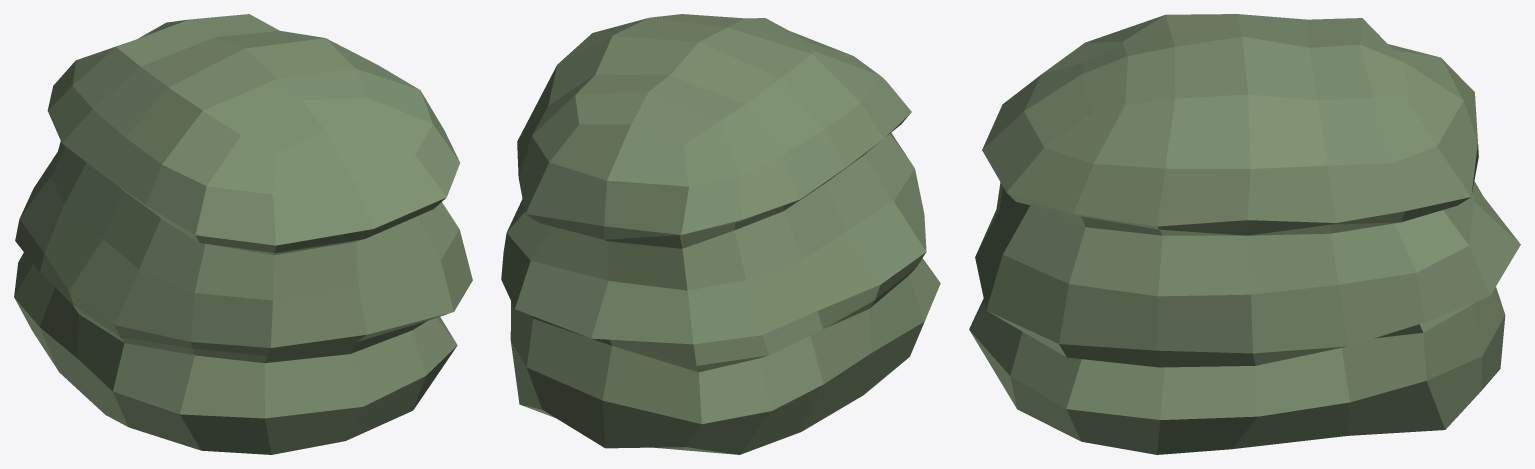
3 renders of one model, left to right at view 1: azimuth 30°, elevation 25°; view 2: azimuth 150°, elevation 25°; view 3: azimuth 270°, elevation 25°, orthographic. The views are drawn at different scales.
Parts seen in each view (by area): view 1: Visual; view 2: Visual; view 3: Visual.
Part boxes in pixels (x1,y1,x2,y2): Visual: [14, 14, 472, 454]; Visual: [501, 14, 940, 454]; Visual: [969, 14, 1520, 454].
Bounding box in the file's own units: 2.92 × 2.73 × 3.72.
